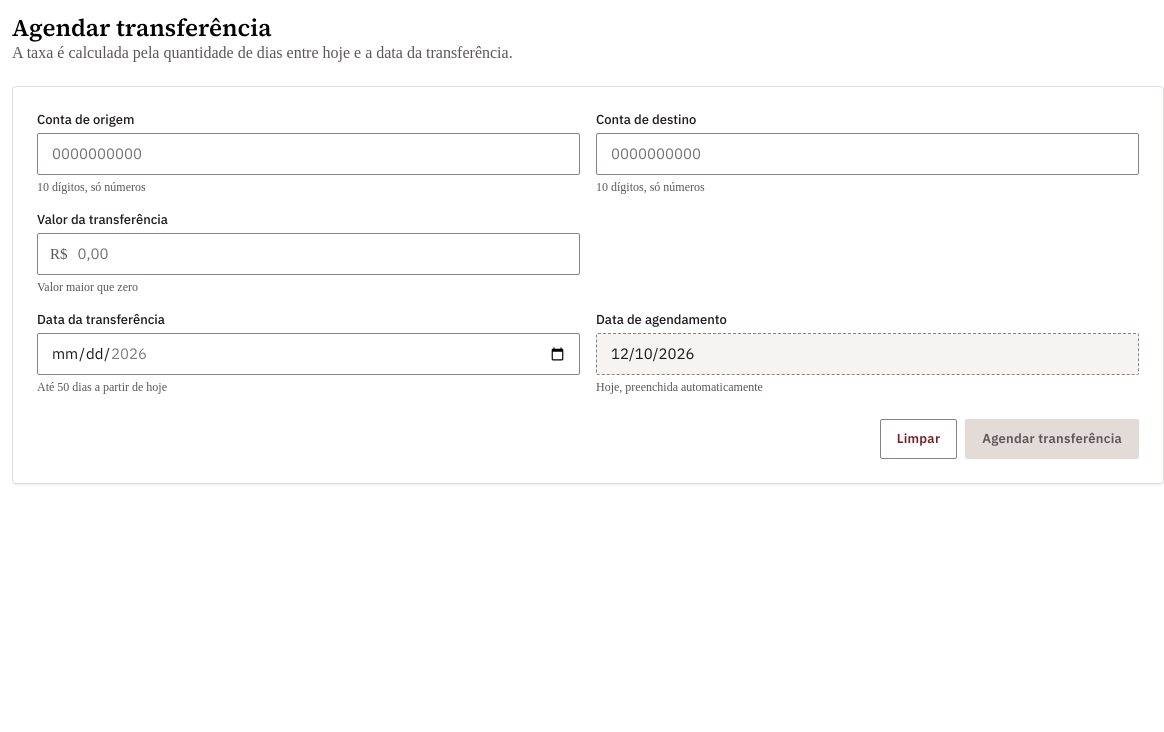
Scenario: AgendarView › confirma o agendamento depois do envio
Type "1234567890" into the field labelled "Conta de origem 10 dígitos, só números" at [308, 154], box [50,142,567,166]
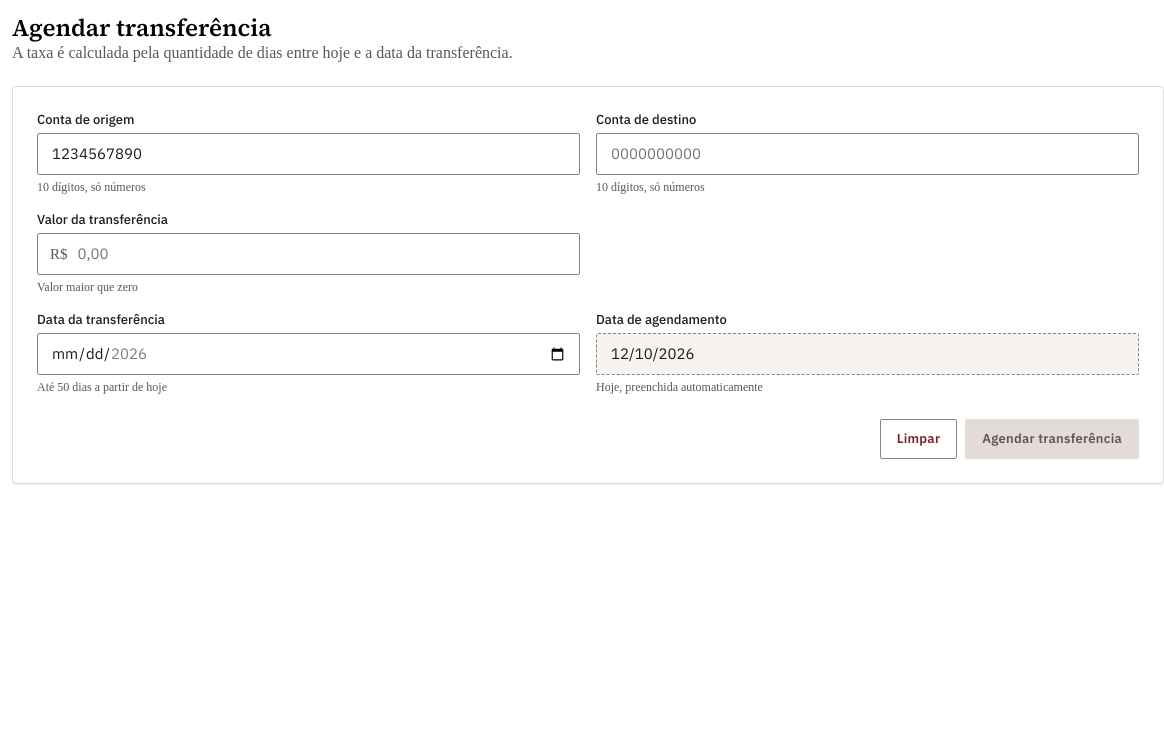
Type "0987654321" into the field labelled "Conta de destino 10 dígitos, só números" at [868, 154], box [609,142,1126,166]
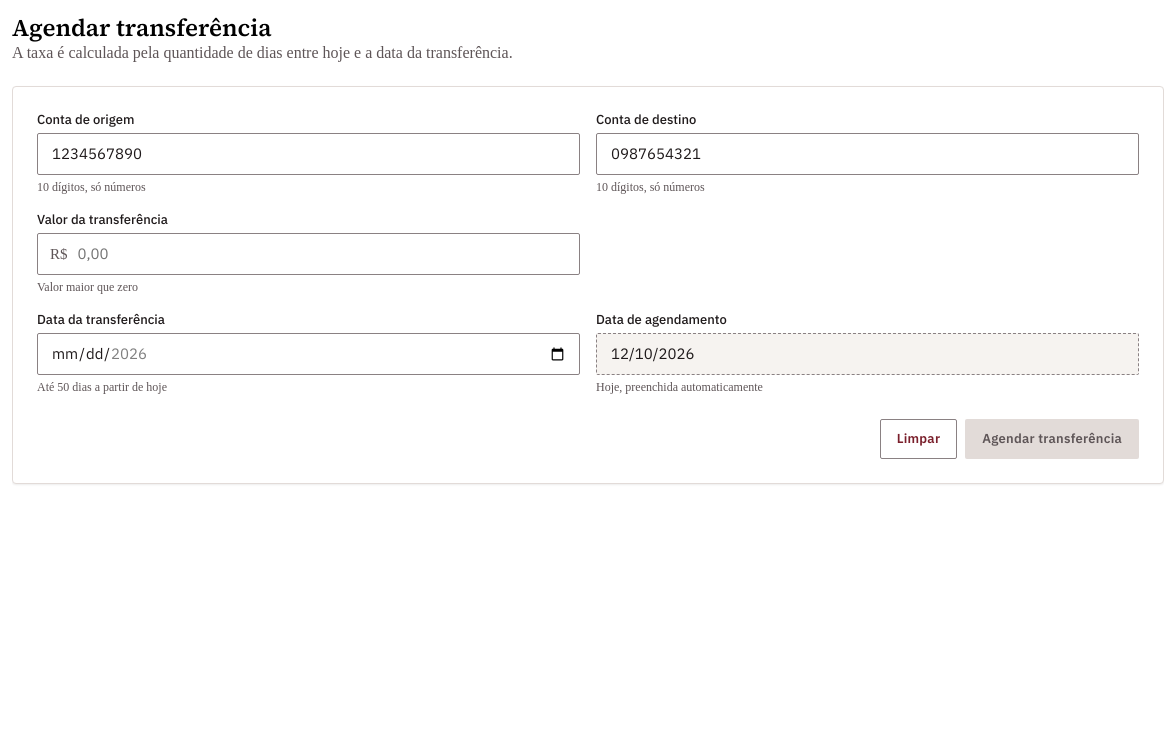
Type "1000" into the field labelled "Valor da transferência R$ Valor maior que zero" at [321, 254], box [76,242,567,266]
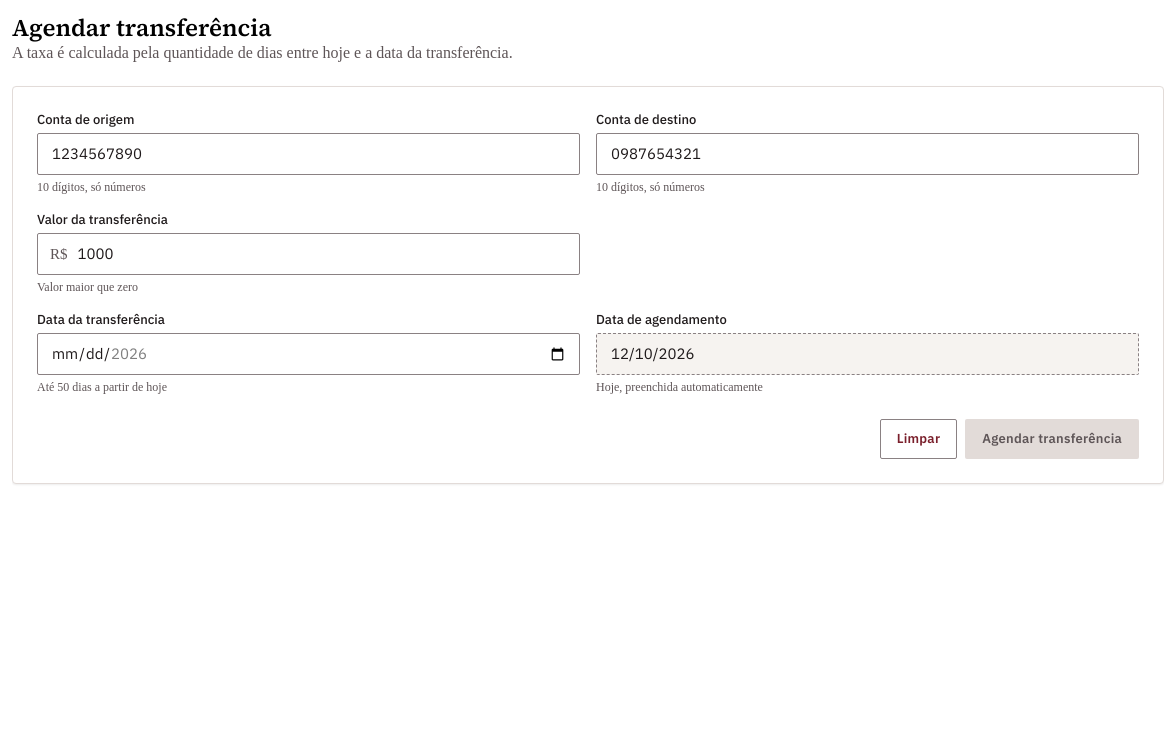
Type "2026-10-12" into the date field labelled "Data da transferência Até 50 dias a partir de hoje" at [308, 354], box [50,342,567,366]
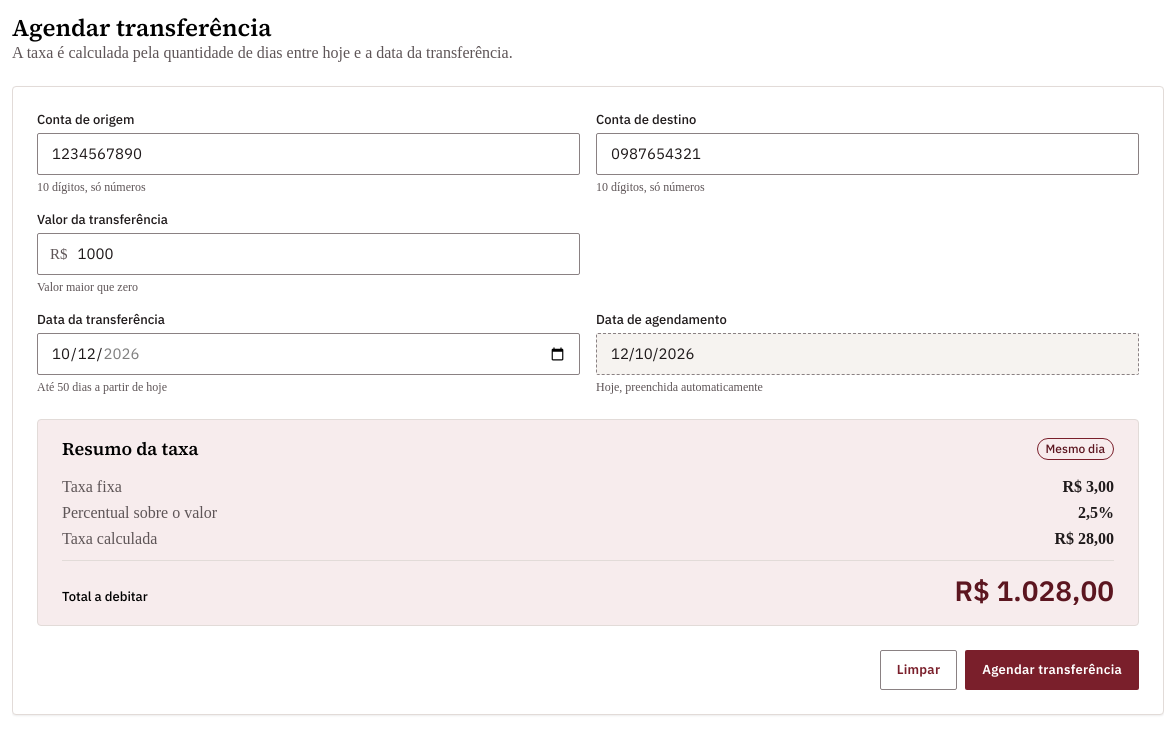
Submit the form
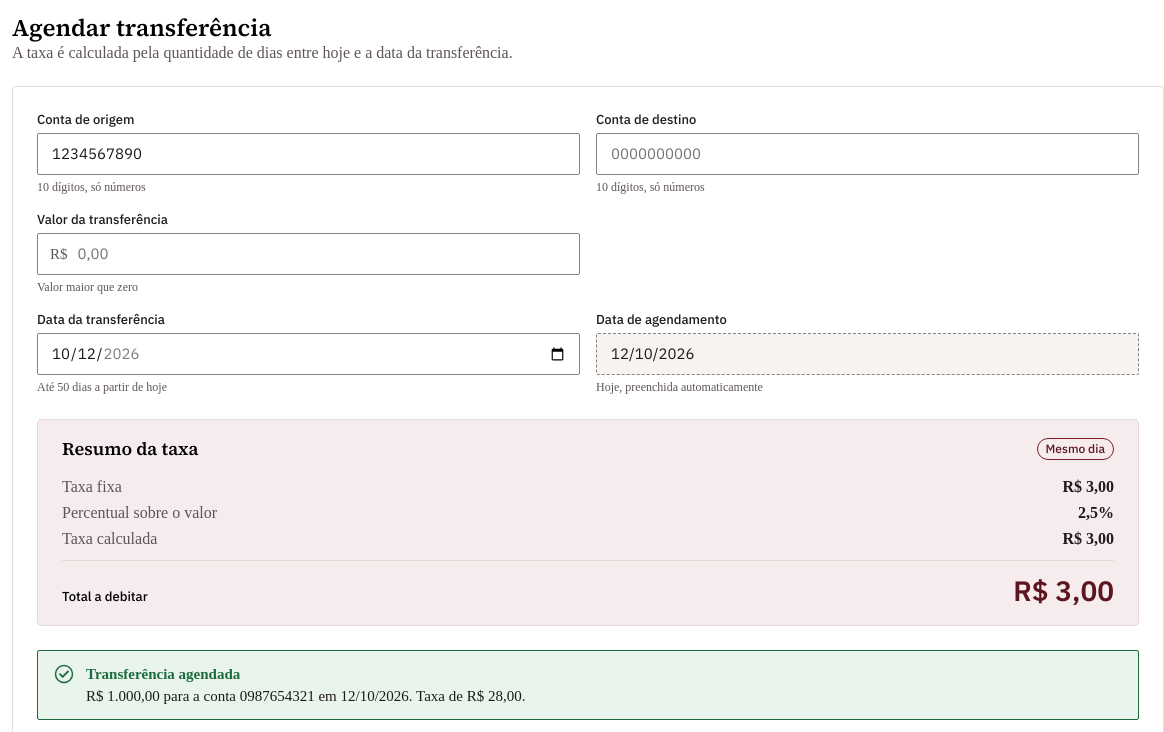
Check: the message with class "at-alert--success" shows "Transferência agendada", box [86,666,240,682]
Check: the message with class "at-alert--success" shows "conta 0987654321", box [86,688,526,704]
